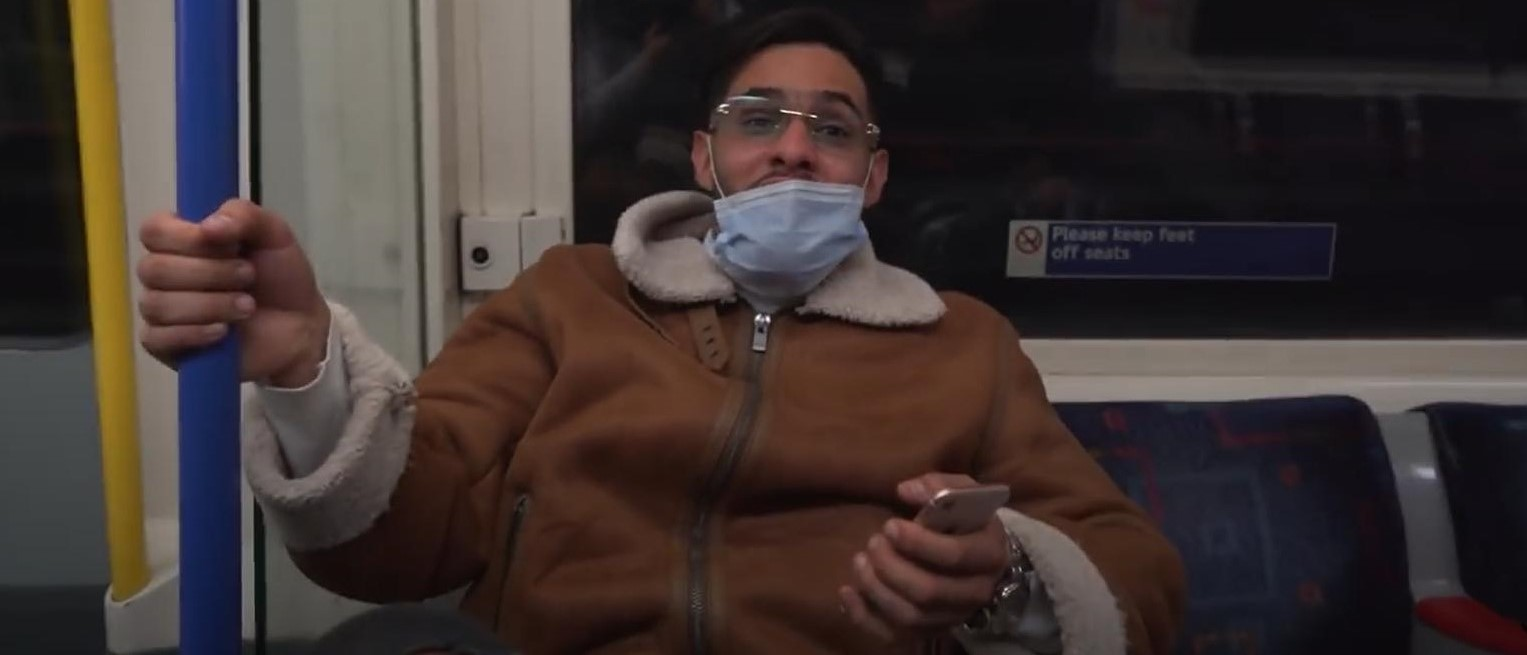with_incorrect_mask: (723, 91, 857, 238)
